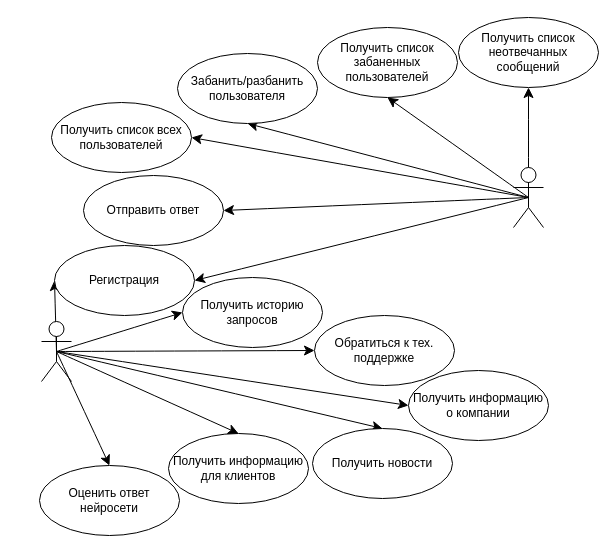
This 616x553 diagram has some shape labels left out. The shapes that lost their labels are listed below. From the top down, each one's centre as x and y in pixels, then its label:
point 528,197: Администратор
point 56,351: Пользователь
